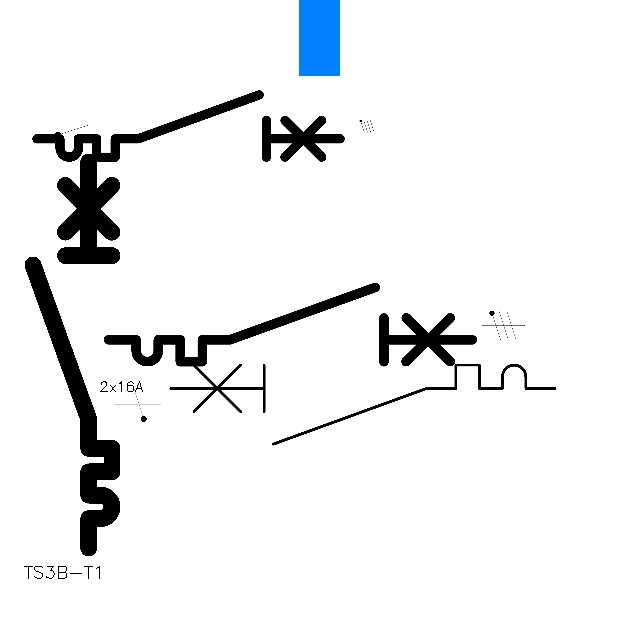interruptor_termomagnetico: (23, 151, 122, 557), (160, 355, 564, 454), (99, 278, 481, 371), (29, 87, 348, 165)
